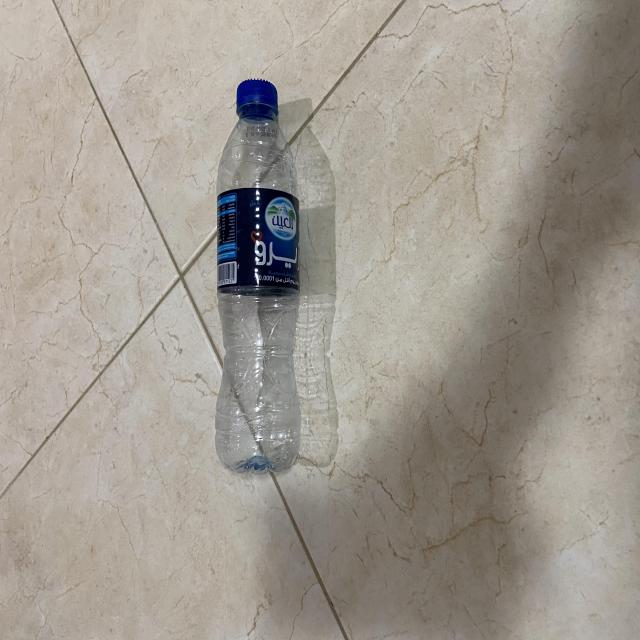bottle: (216, 66, 305, 482)
